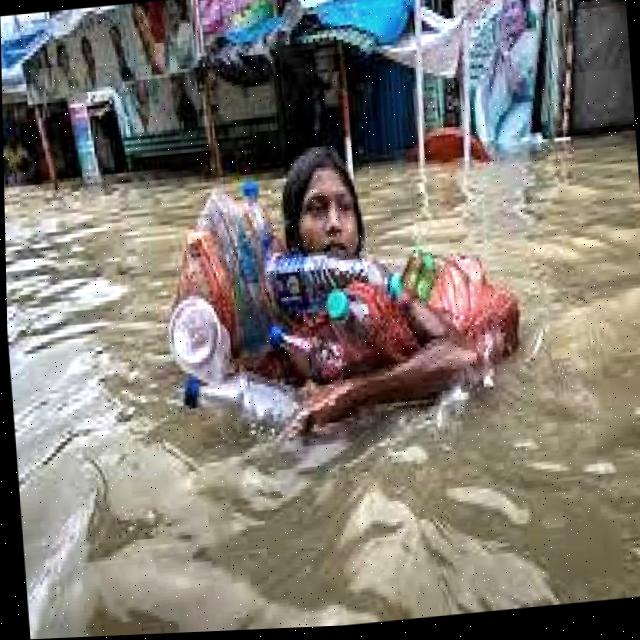civilian: (262, 135, 380, 286)
